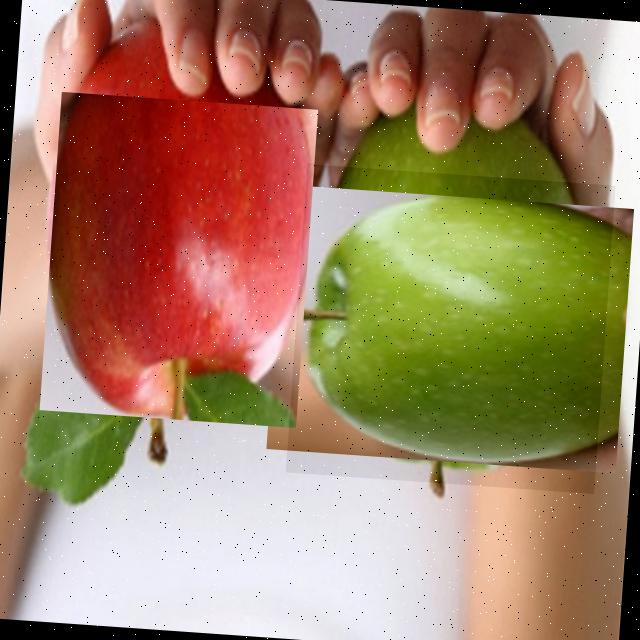Fresh Apple: (285, 163, 615, 493), (35, 90, 318, 428)
